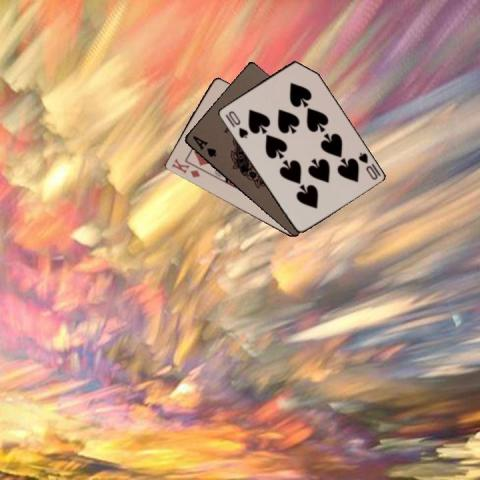10s: (226, 107, 250, 139), (355, 150, 379, 182)
As: (189, 132, 218, 158)
Kd: (168, 155, 201, 180)
